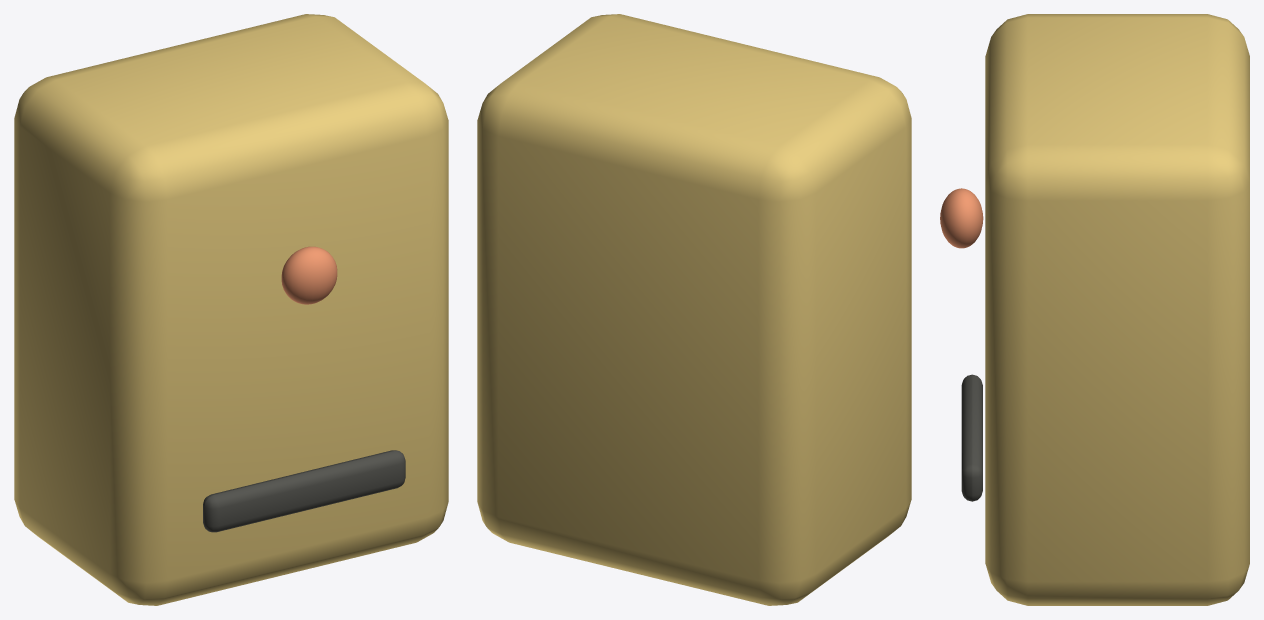
Rendered from hand-dryer.glb.
The picture shows the model from 3 angles, left to right: view 1: azimuth 30°, elevation 25°; view 2: azimuth 150°, elevation 25°; view 3: azimuth 270°, elevation 25°; orthographic projection.
Parts seen in each view (by area): view 1: body.012, air-slot, sensor; view 2: body.012; view 3: body.012, air-slot, sensor.
Boxes of the visible parts, box(x1,y1,x2,y2) form: body.012: box(14, 14, 448, 605); air-slot: box(203, 450, 405, 532); sensor: box(281, 246, 337, 304); body.012: box(477, 14, 911, 605); body.012: box(985, 14, 1249, 605); air-slot: box(961, 374, 982, 501); sensor: box(940, 188, 983, 248).
Size of the model in its own units: 0.32 by 0.42 by 0.2578.
